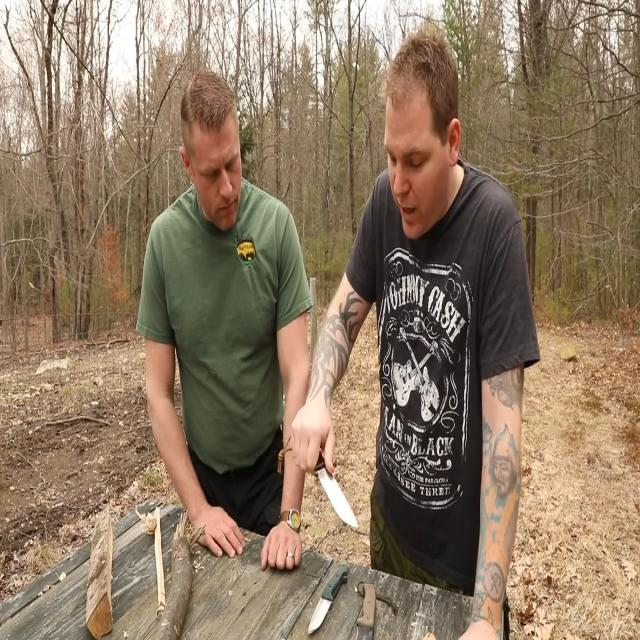knife: (315, 461, 363, 534), (303, 561, 347, 640), (353, 575, 378, 640)
